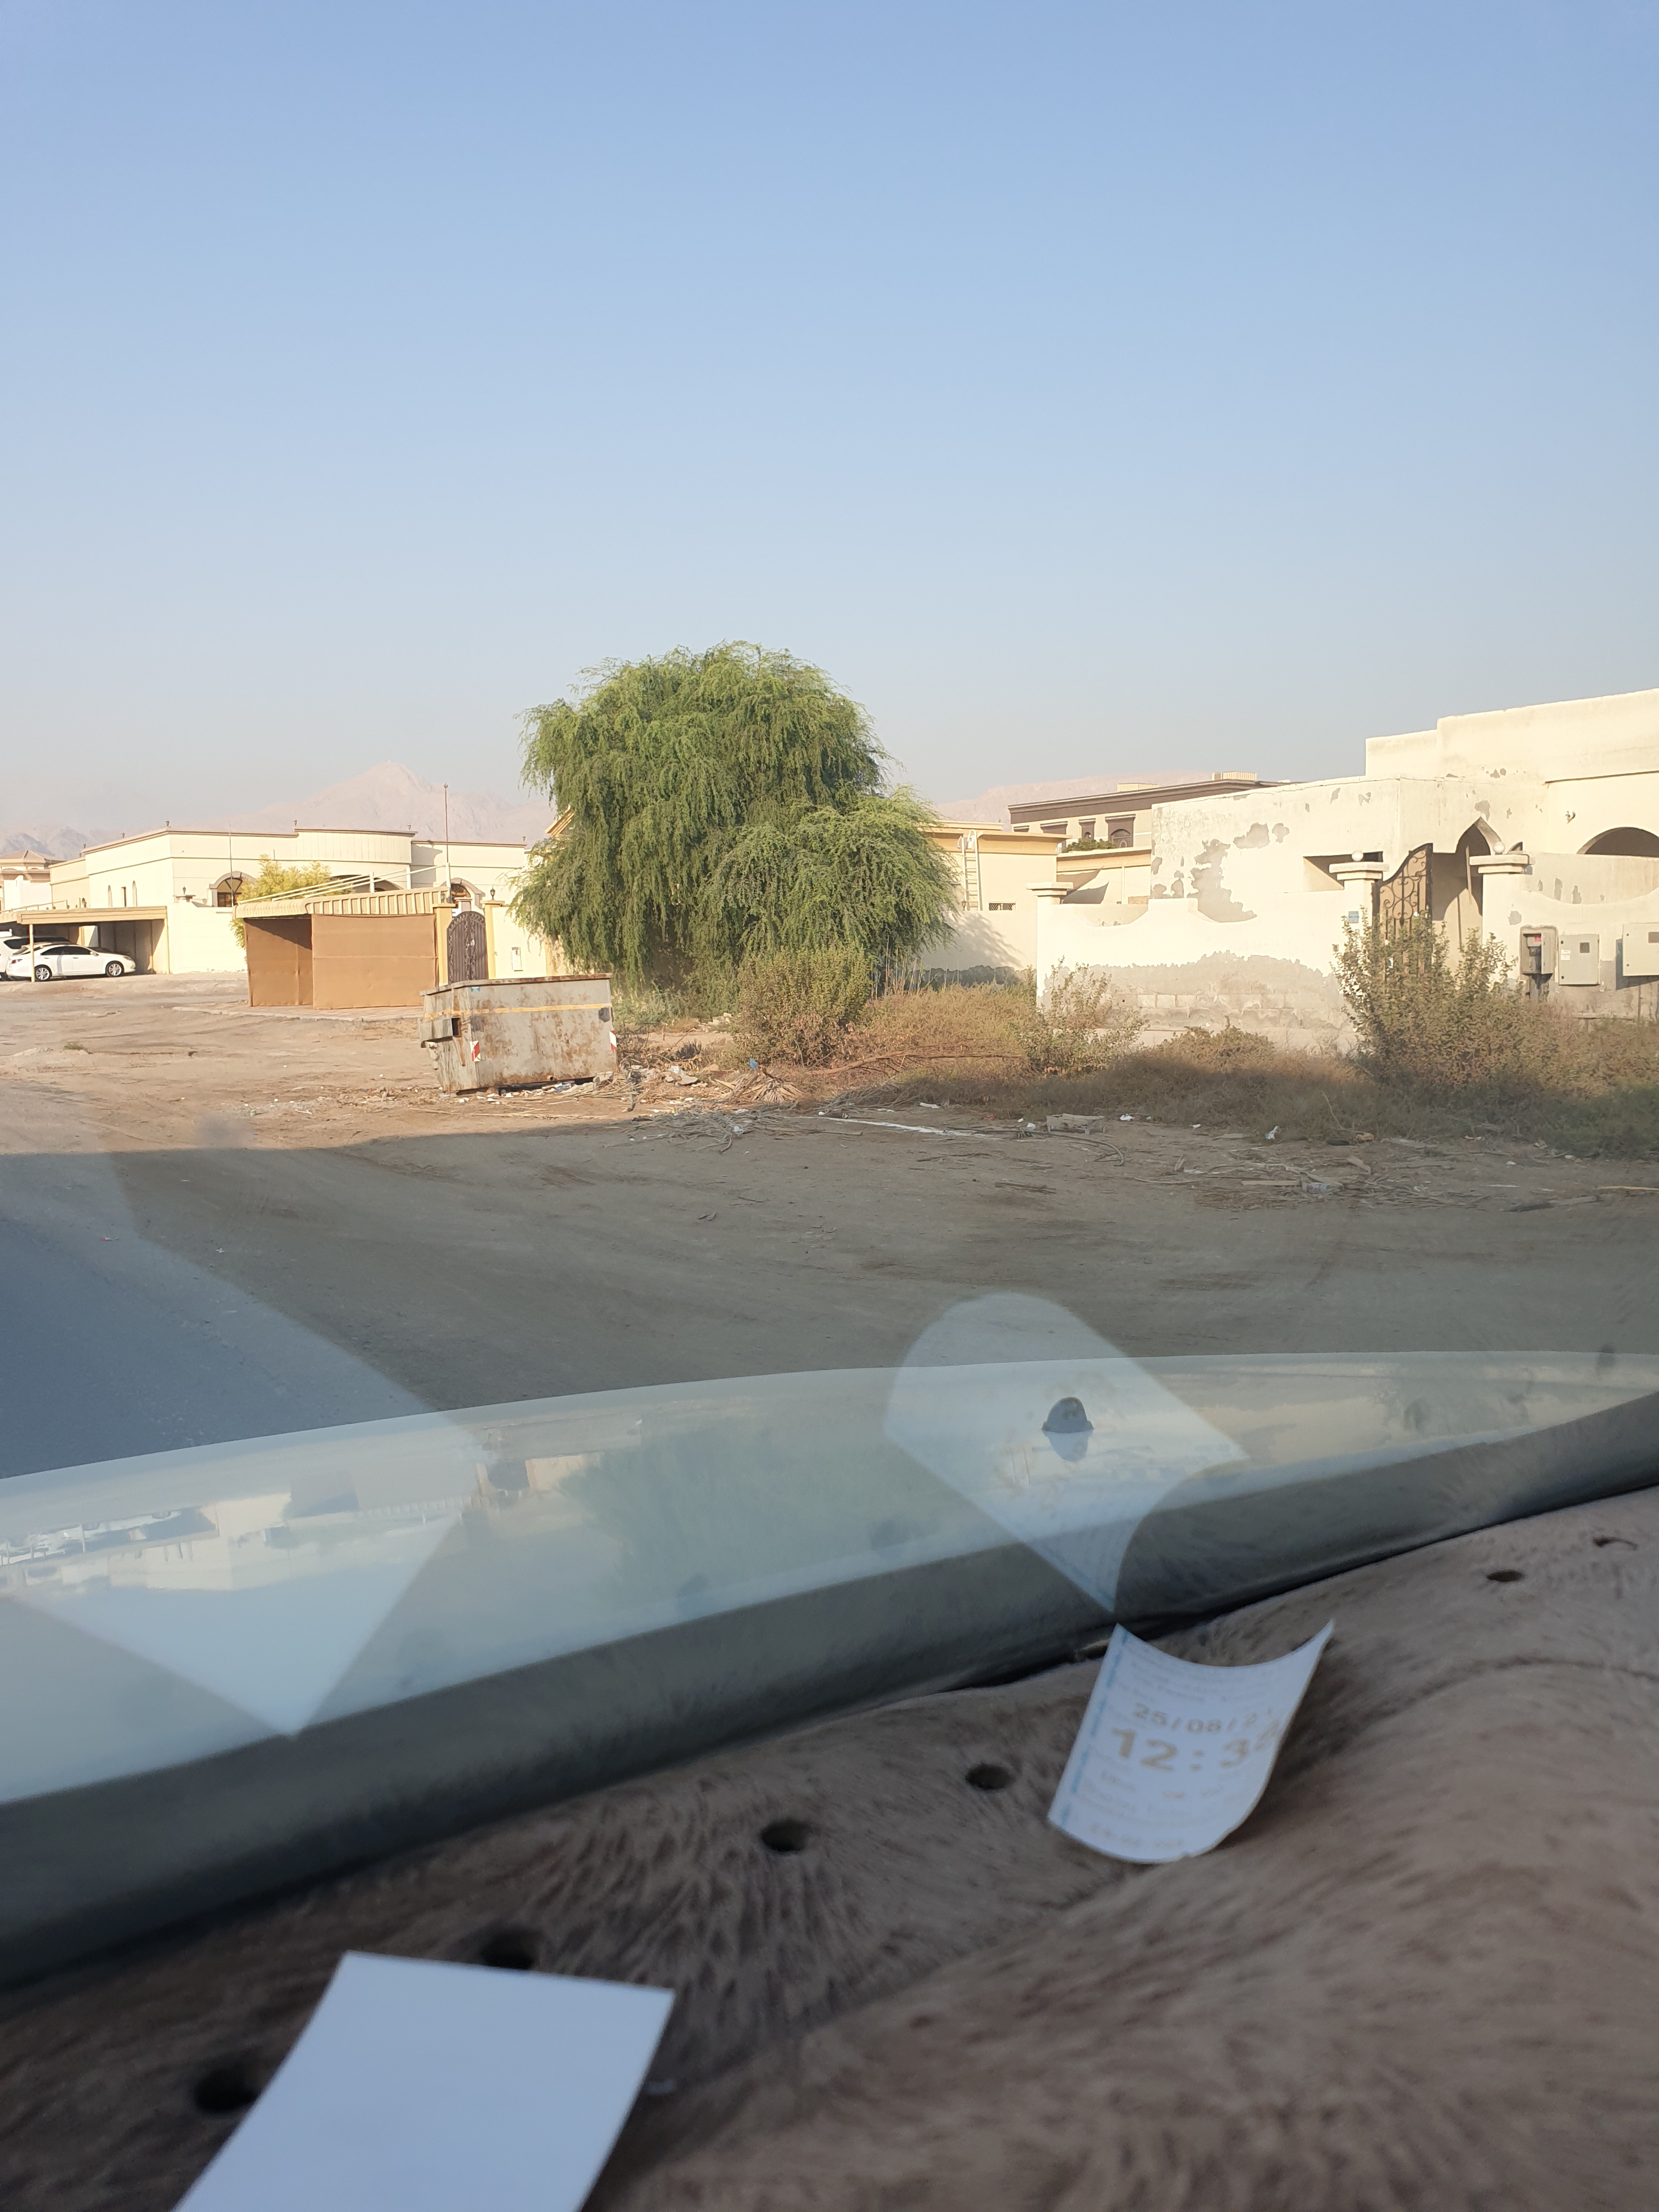fallen_trees: (1194, 1151, 1417, 1219), (633, 1106, 878, 1160), (1291, 1174, 1497, 1228), (974, 1113, 1140, 1170), (1507, 1174, 1621, 1221), (443, 1101, 579, 1123), (786, 1116, 873, 1148), (985, 1174, 1080, 1200), (556, 1106, 636, 1129), (1148, 1141, 1195, 1177)
